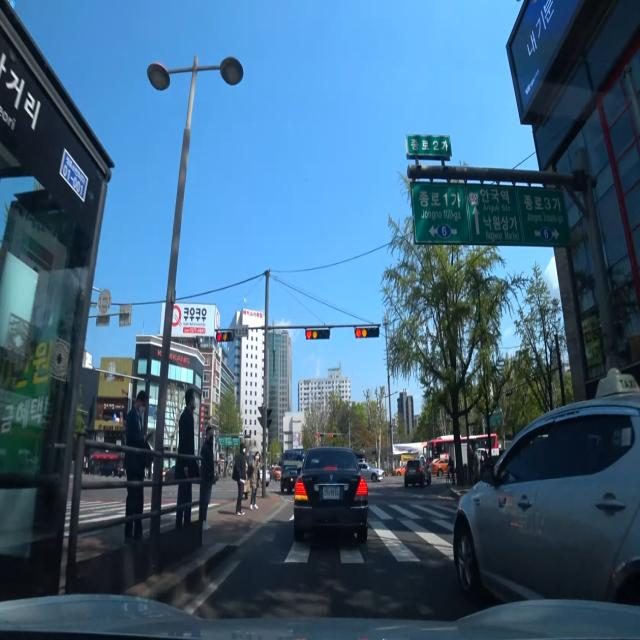Red Light: (354, 328, 362, 338), (305, 330, 312, 340), (216, 332, 222, 342)
Yellow Light: (222, 332, 227, 341), (312, 330, 317, 339), (362, 328, 366, 338)
